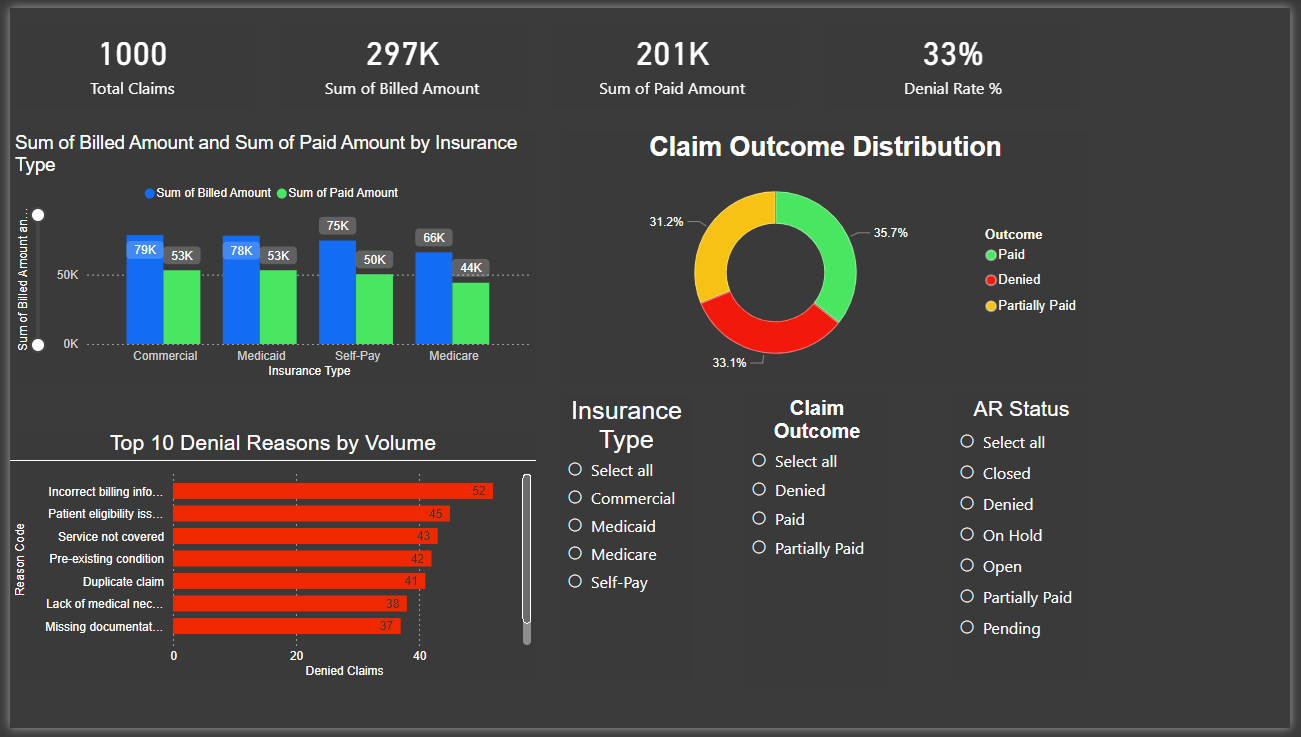

This screenshot's page, from the dashboard's own definition file:
{"tool":"powerbi","page":{"name":"Executive Overview","canvas":[1280,720],"ordinal":0},"visuals":[{"type":"advanceCardE03760C5AB684758B56AA29F9E6C257B","fields":{"mainMeasure":["KPI_Measures.Total Claims"]},"box":[0,13.6,244.8,86.1],"z":0},{"type":"advanceCardE03760C5AB684758B56AA29F9E6C257B","fields":{"mainMeasure":["Sum(CLaims Data.Billed Amount)"]},"box":[270.2,13.6,244.8,86.1],"z":1000},{"type":"advanceCardE03760C5AB684758B56AA29F9E6C257B","fields":{"mainMeasure":["Sum(CLaims Data.Paid Amount)"]},"box":[539.5,13.6,245.7,86.1],"z":2000},{"type":"advanceCardE03760C5AB684758B56AA29F9E6C257B","fields":{"mainMeasure":["KPI_Measures.Denial Rate %"]},"box":[816.1,13.6,253.9,86.1],"z":3000},{"type":"clusteredColumnChart","fields":{"Category":["CLaims Data.Insurance Type"],"Y":["Sum(CLaims Data.Billed Amount)","Sum(CLaims Data.Paid Amount)"]},"box":[0,124.2,525.9,250.3],"z":4000},{"type":"donutChart","title":"Claim Outcome Distribution","fields":{"Category":["CLaims Data.Outcome"],"Y":["KPI_Measures.Total Claims"]},"box":[551.3,124.2,528.7,250.3],"z":5000},{"type":"barChart","title":"Top 10 Denial Reasons by Volume","fields":{"Category":["CLaims Data.Reason Code"],"Y":["KPI_Measures.Denied Claims"]},"box":[0,423.5,525.9,250.3],"z":5001},{"type":"listSlicer","fields":{"Values":["CLaims Data.Insurance Type"]},"box":[551.3,388.1,130.6,285.6],"z":5002},{"type":"listSlicer","title":"Claim Outcome","fields":{"Values":["CLaims Data.Outcome"]},"box":[734.5,389,144.2,285.6],"z":5003},{"type":"listSlicer","fields":{"Values":["CLaims Data.AR Status"]},"box":[943.1,389,136.9,284.7],"z":5004}]}

Visuals, with their boxes in screenshot pixels (x1, y1, x2, y2), scaled from the page's 1280x720 canvas onto the 1301x737 screenshot:
advanceCardE03760C5AB684758B56AA29F9E6C257B - KPI_Measures.Total Claims: (left=0, top=14, right=249, bottom=102)
advanceCardE03760C5AB684758B56AA29F9E6C257B - Sum(CLaims Data.Billed Amount): (left=275, top=14, right=523, bottom=102)
advanceCardE03760C5AB684758B56AA29F9E6C257B - Sum(CLaims Data.Paid Amount): (left=548, top=14, right=798, bottom=102)
advanceCardE03760C5AB684758B56AA29F9E6C257B - KPI_Measures.Denial Rate %: (left=829, top=14, right=1088, bottom=102)
clusteredColumnChart - CLaims Data.Insurance Type x Sum(CLaims Data.Billed Amount): (left=0, top=127, right=535, bottom=383)
"Claim Outcome Distribution" donutChart: (left=560, top=127, right=1098, bottom=383)
"Top 10 Denial Reasons by Volume" barChart: (left=0, top=433, right=535, bottom=690)
listSlicer - CLaims Data.Insurance Type: (left=560, top=397, right=693, bottom=690)
"Claim Outcome" listSlicer: (left=747, top=398, right=893, bottom=691)
listSlicer - CLaims Data.AR Status: (left=959, top=398, right=1098, bottom=690)
